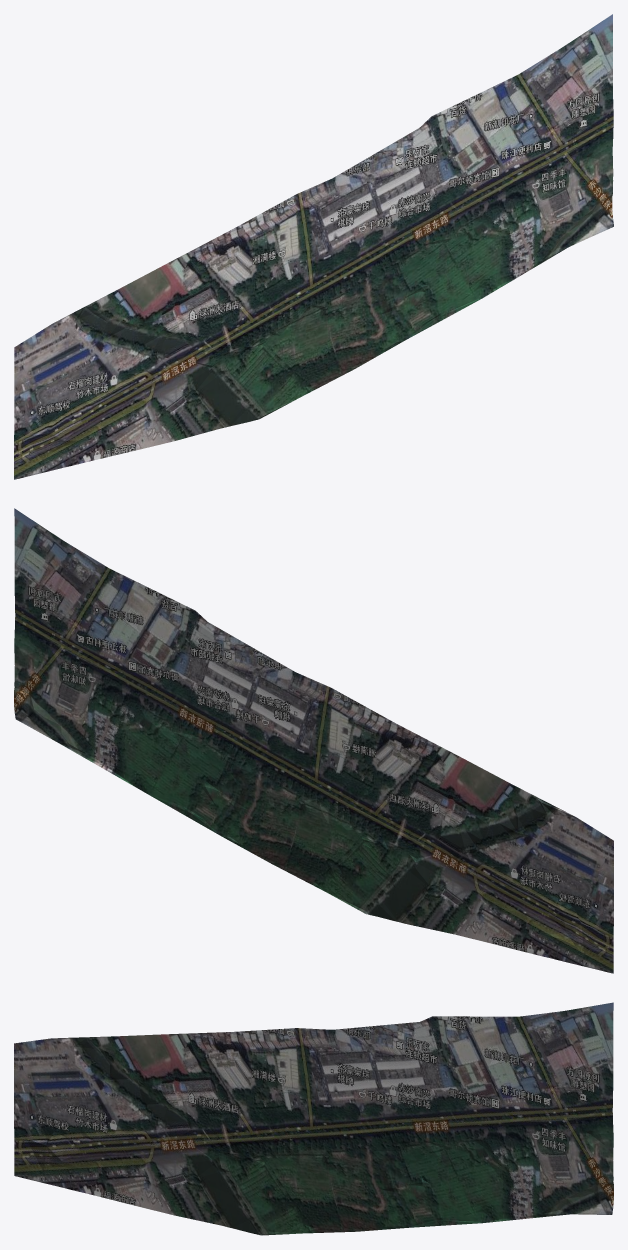
3 views of the same model, one above another, from view 1: azimuth 30°, elevation 25°; view 2: azimuth 150°, elevation 25°; view 3: azimuth 330°, elevation 25° (orthographic).
Parts seen in each view (by area): view 1: 0_2_1_2_3; view 2: 0_2_1_2_3; view 3: 0_2_1_2_3.
Boxes of the visible parts, box(x1,y1,x2,y2) form: 0_2_1_2_3: box(14, 14, 613, 479); 0_2_1_2_3: box(14, 508, 613, 973); 0_2_1_2_3: box(14, 1002, 613, 1235).
Size of the model in its own units: 972 by 496 by 8.2.
Materials: 1 (1 with a texture image).
